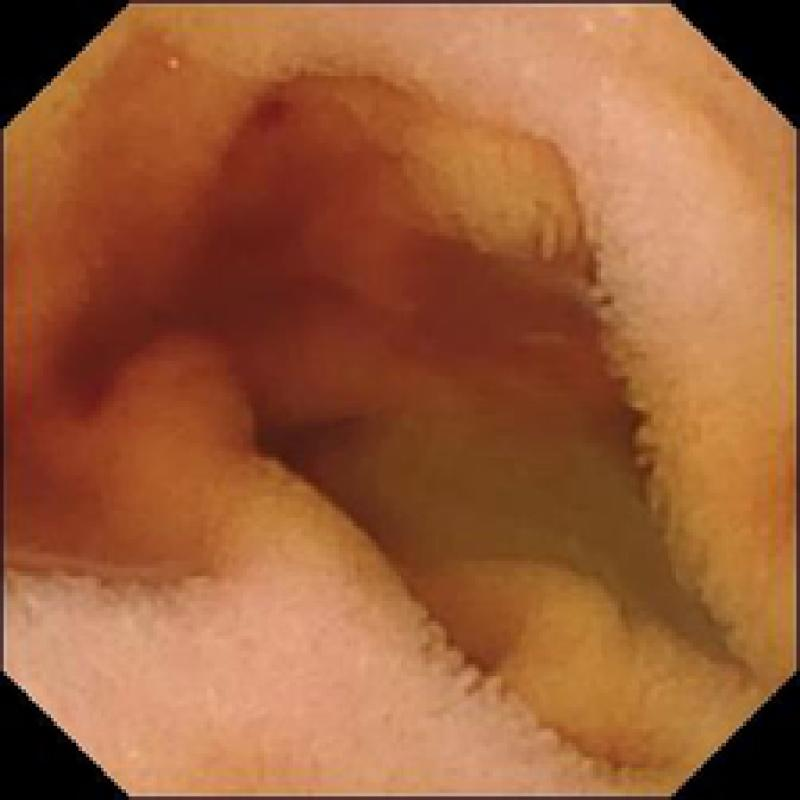bleeding: (57, 72, 418, 428)
